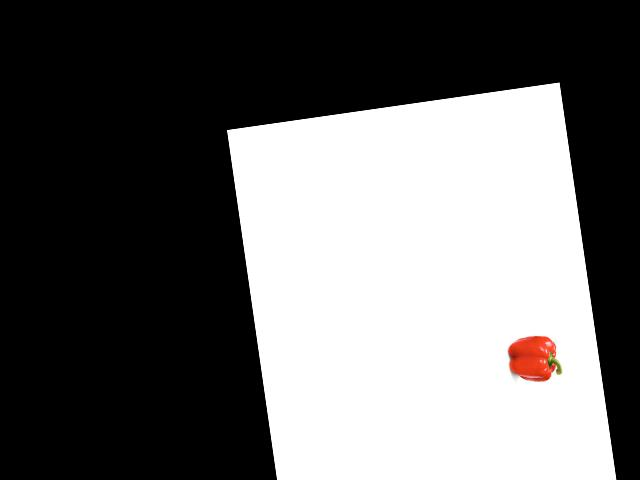bell_pepper: (504, 331, 564, 386)
